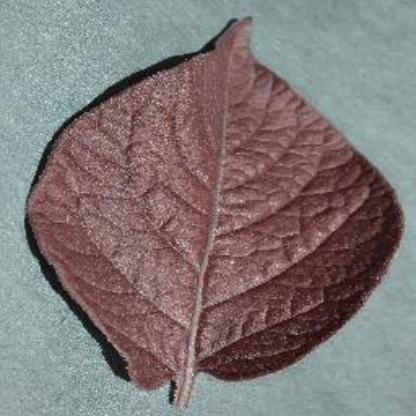Healthy-plant: (21, 13, 407, 404)
